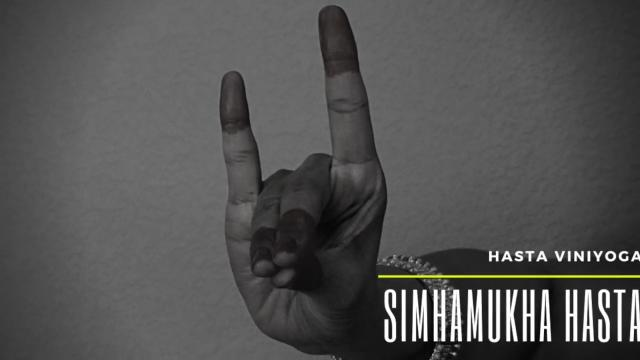sinhamukh: (193, 6, 441, 351)
